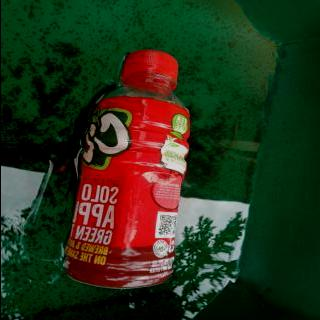bottle: (60, 47, 195, 291)
